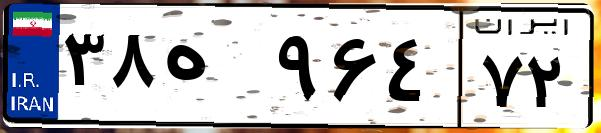2: (525, 38, 570, 115)
3: (57, 26, 110, 100)
4: (385, 28, 445, 110)
6: (330, 28, 385, 110)
7: (475, 38, 525, 113)
8: (110, 28, 158, 98)
9: (270, 28, 330, 110)
ه: (158, 20, 270, 120)
